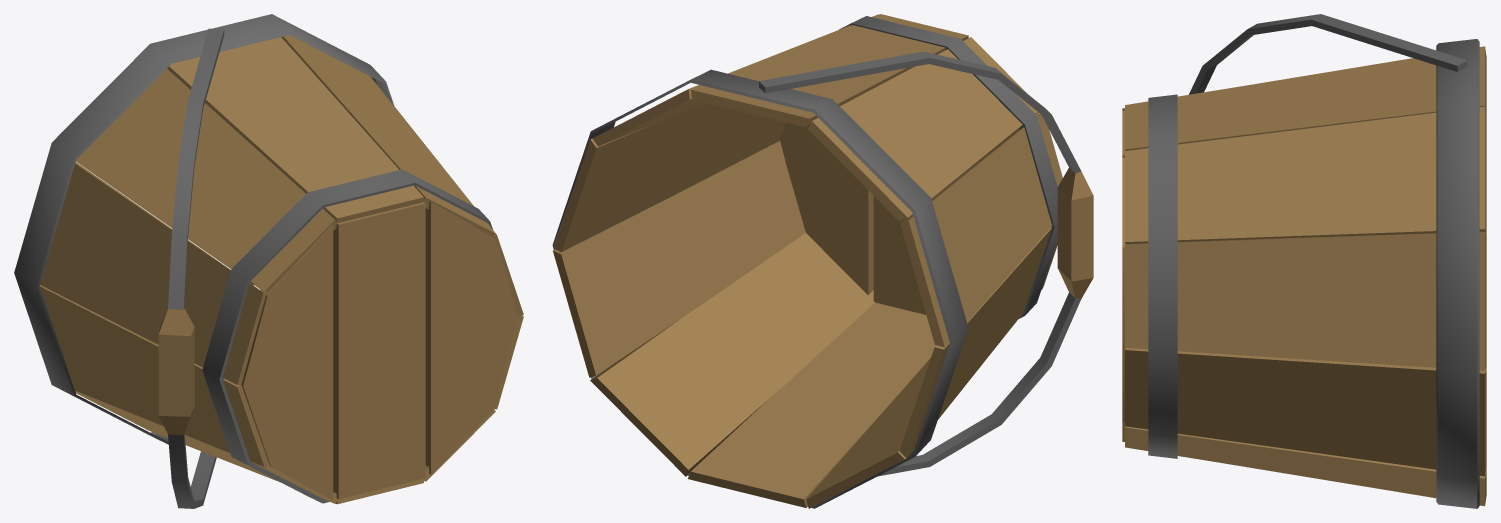
Rendered from bucket.FBX.
The picture shows the model from 3 angles, left to right: view 1: azimuth 30°, elevation 25°; view 2: azimuth 150°, elevation 25°; view 3: azimuth 270°, elevation 25°; orthographic projection. The views are drawn at different scales.
Visible parts, largest first — view 1: bucket; view 2: bucket; view 3: bucket.
Part boxes in pixels (x1,y1,x2,y2): bucket: (14, 14, 523, 508); bucket: (552, 14, 1093, 508); bucket: (1122, 14, 1486, 508).
Size of the model in its own units: 32.65 by 31.87 by 25.11.
